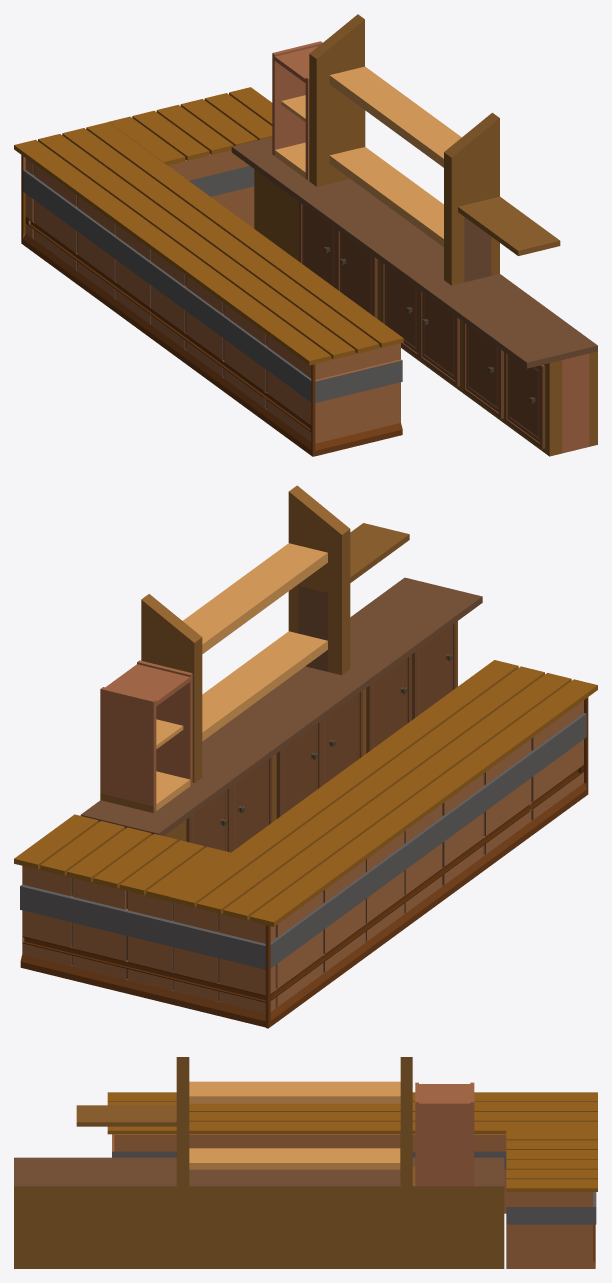
Rendered from Bar.fbx.
3 views of the same model, one above another, from view 1: azimuth 30°, elevation 25°; view 2: azimuth 150°, elevation 25°; view 3: azimuth 270°, elevation 25° (orthographic). The views are drawn at different scales.
Visible parts, largest first — view 1: Bar; view 2: Bar; view 3: Bar.
Boxes of the visible parts, box(x1,y1,x2,y2) form: Bar: box(14, 14, 597, 456); Bar: box(14, 485, 597, 1028); Bar: box(14, 1057, 597, 1268).
Bounding box in the file's own units: 7.05 × 18.12 × 7.25.
